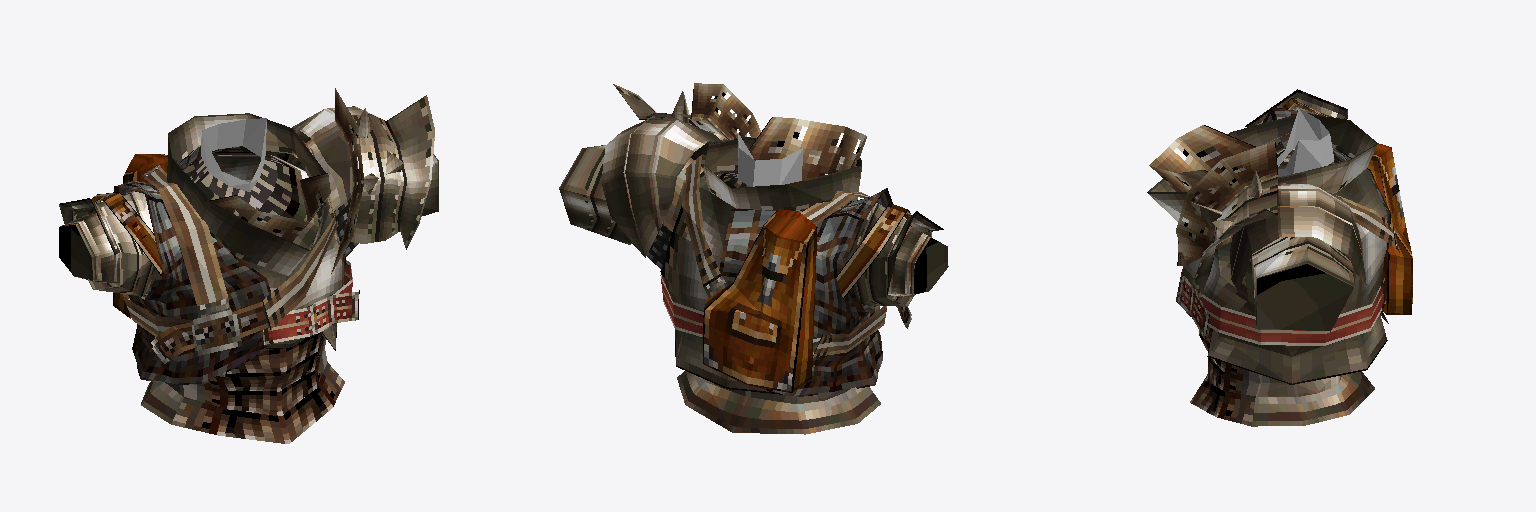
3 renders of one model, left to right at view 1: azimuth 30°, elevation 25°; view 2: azimuth 150°, elevation 25°; view 3: azimuth 270°, elevation 25°, orthographic.
Parts seen in each view (by area): view 1: mesh00; view 2: mesh00; view 3: mesh00.
Part boxes in pixels (x1,y1,x2,y2): mesh00: (59, 88, 438, 443); mesh00: (559, 83, 948, 434); mesh00: (1147, 89, 1412, 426).
Size of the model in its own units: 75.13 by 63.68 by 50.45.
Materials: 2 (1 with a texture image).